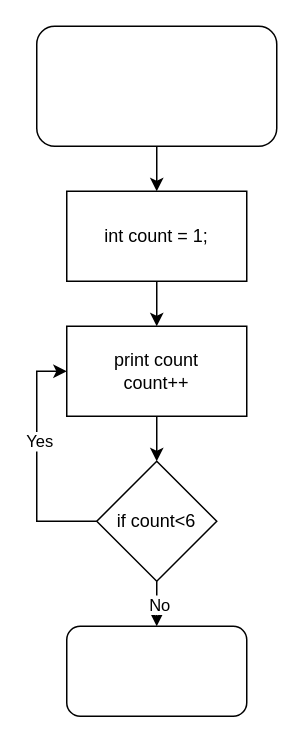
This 303x743 diagram has some shape labels left out. The shapes that lost their labels are listed below. From the top down, each one's centre as x and y in pixels, then its label:
At (x=156, y=85): "Print out the numbers from 1 to 5".
At (x=156, y=670): "End".
